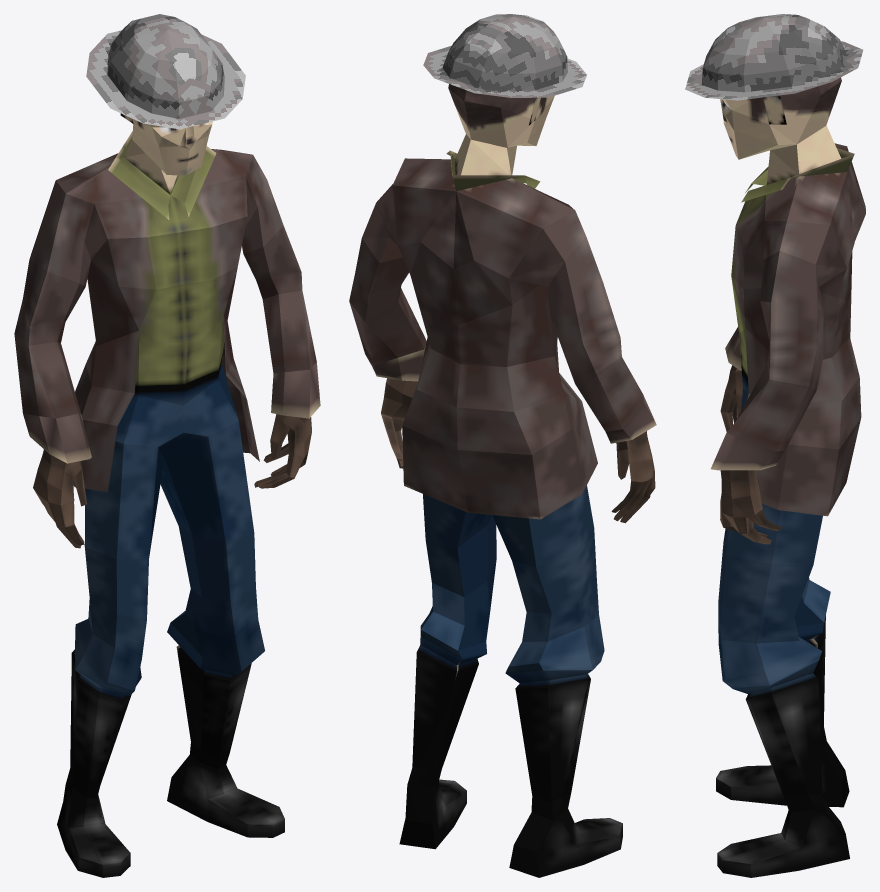
File: idle.obj
3 renders of one model, left to right at view 1: azimuth 30°, elevation 25°; view 2: azimuth 150°, elevation 25°; view 3: azimuth 270°, elevation 25°, orthographic.
Visible parts, largest first — view 1: body_Mesh.073, hat_Cube.001, head_Mesh.001; view 2: body_Mesh.073, hat_Cube.001, head_Mesh.001; view 3: body_Mesh.073, hat_Cube.001, head_Mesh.001.
Boxes of the visible parts, x1,y1,x2,y2 form: body_Mesh.073: [14, 131, 320, 877]; hat_Cube.001: [86, 14, 245, 129]; head_Mesh.001: [120, 113, 212, 175]; body_Mesh.073: [349, 134, 656, 877]; hat_Cube.001: [423, 14, 586, 97]; head_Mesh.001: [448, 84, 554, 147]; body_Mesh.073: [711, 125, 865, 877]; hat_Cube.001: [685, 14, 863, 100]; head_Mesh.001: [720, 77, 841, 159].
Size of the model in its own units: 0.0176 by 0.0498 by 0.0101.
